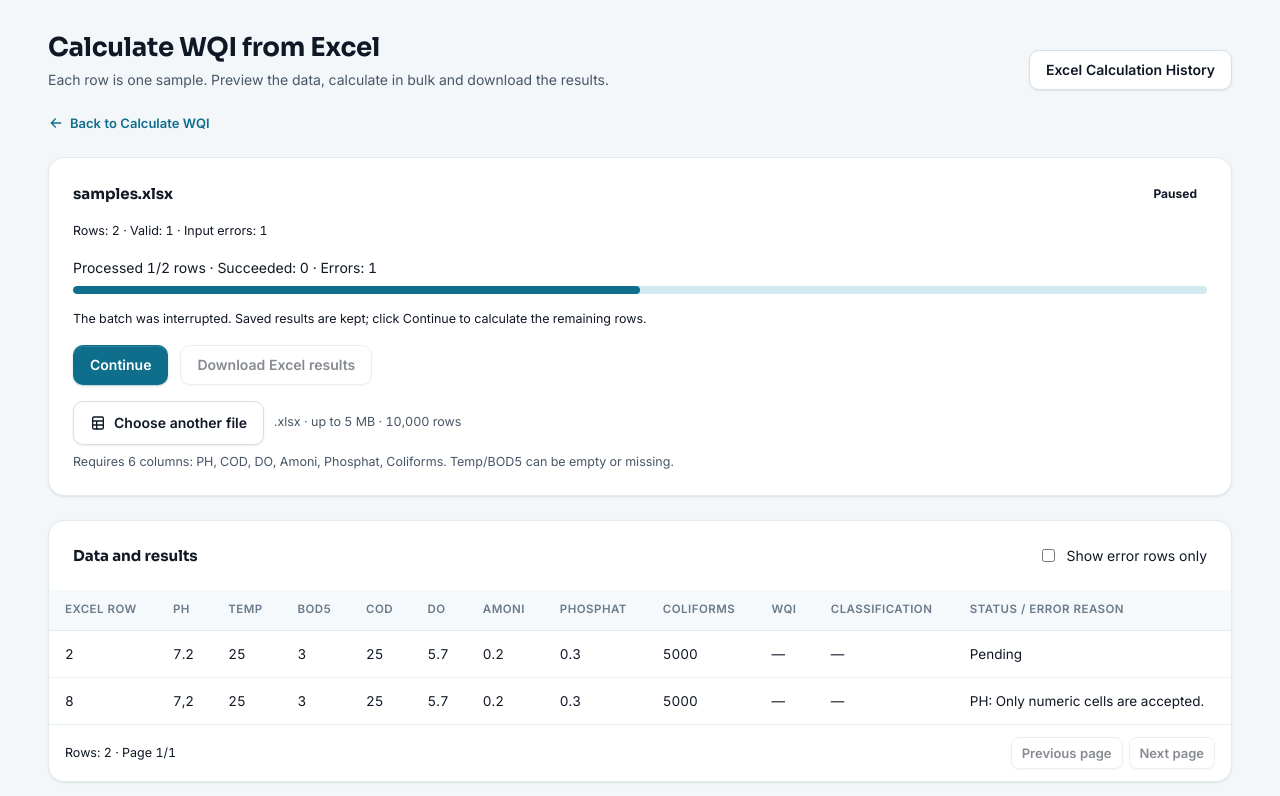
it: Excel calculation UI › offers resume for interrupted work and sends error filter to the server
The width and height of the screenshot is (1280, 796).
Expected: the button "Continue" is shown, [73,344,168,384]
Click the checkbox labelled "Show error rows only".
click(1049, 556)  # box [1042,549,1056,562]
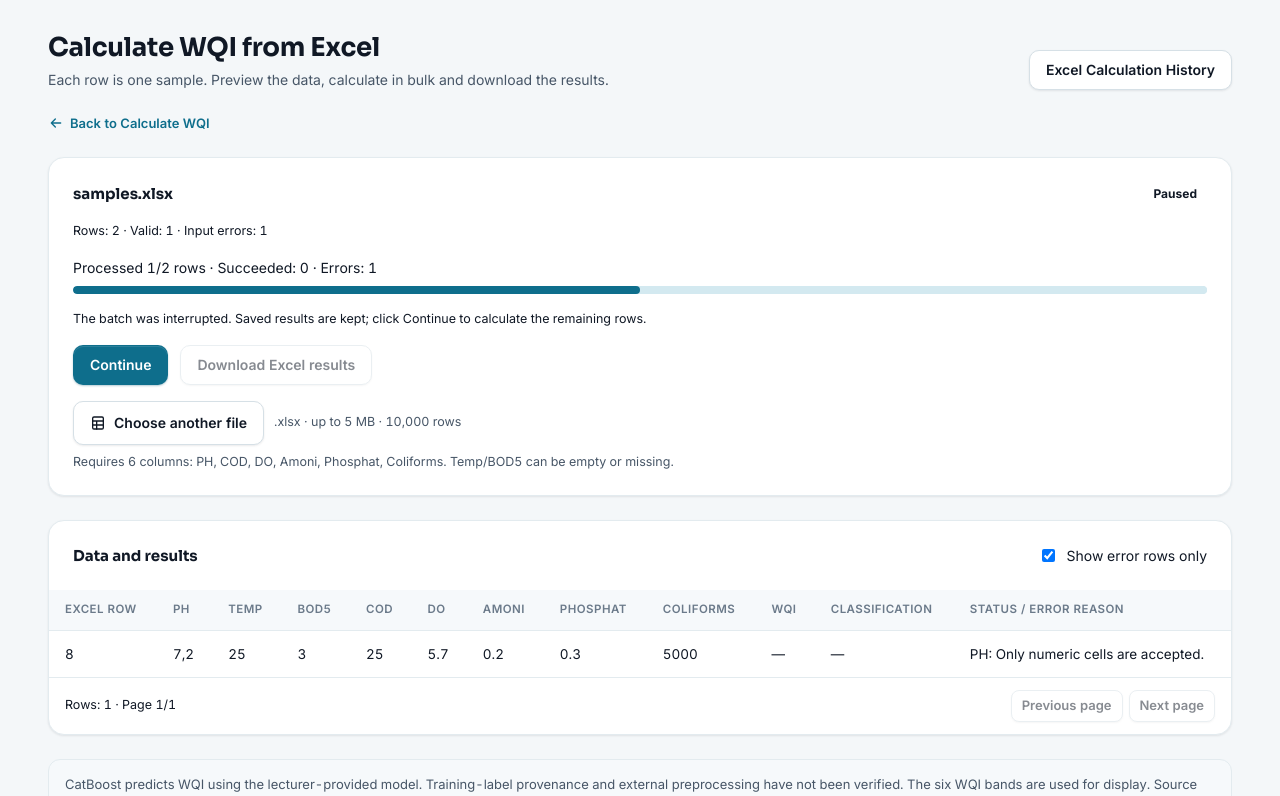
Expected: the text "PH: Only numeric cells are accepted." is shown, [954,630,1231,677]
Now the text "Pending" is gone
